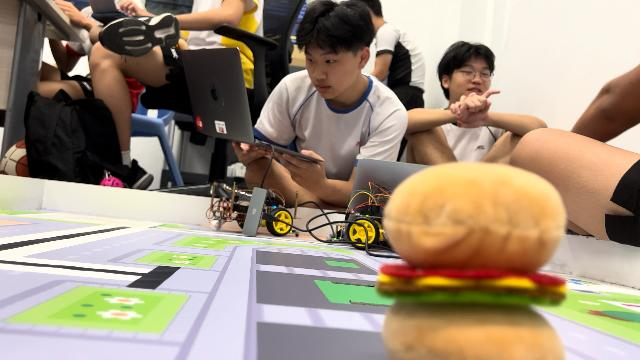burger: (386, 160, 570, 360)
